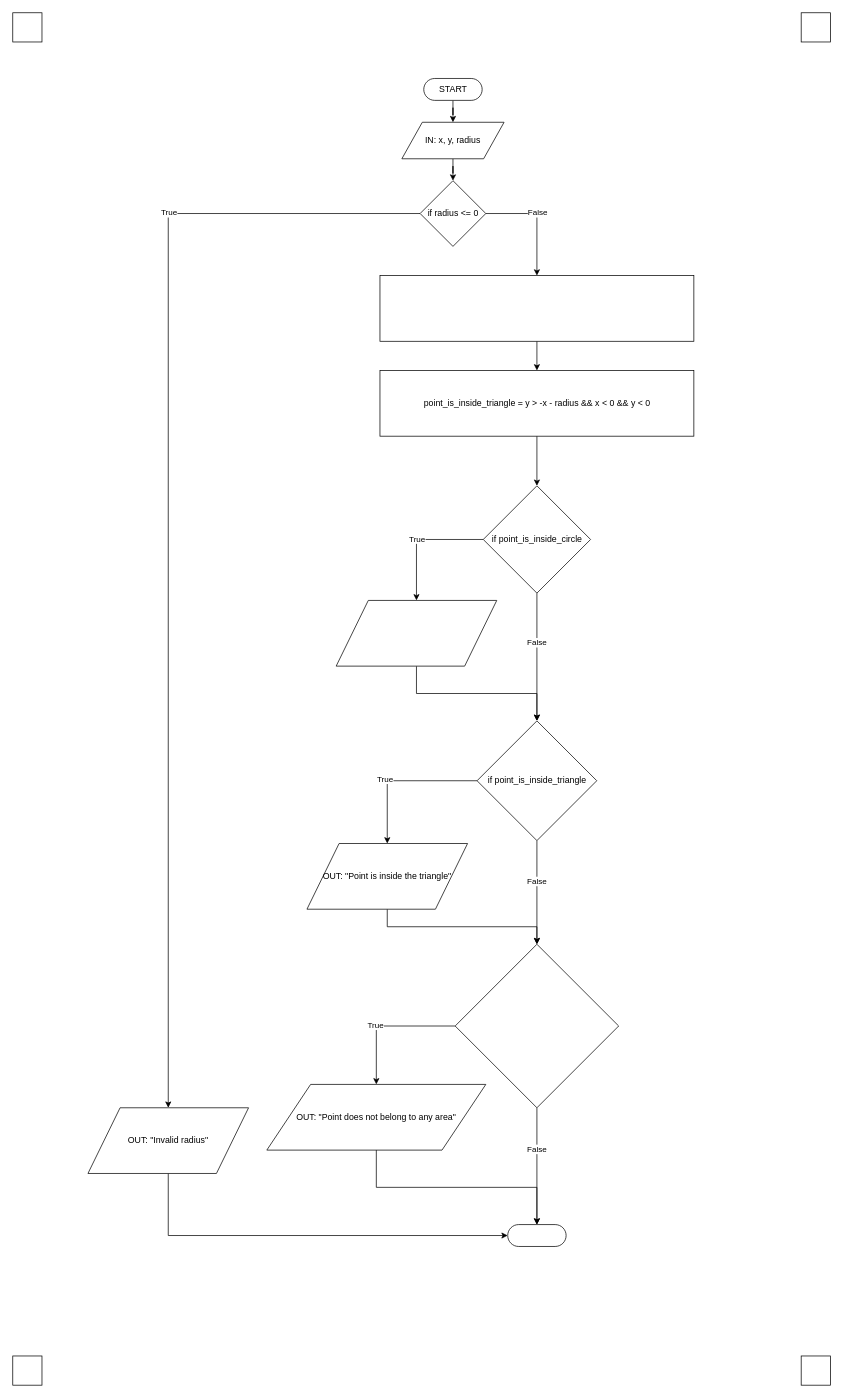
The diagram is 843 pixels wide and 1398 high, and some of its shapes have lost their labels. Each missing label, with the centre of its shape:
END: point (536, 1235)
if not point_is_inside_triangle and not point_is_inside_circle: point (536, 1026)
OUT: "Point is inside the circle": point (416, 633)
point_is_inside_circle = x^2 + y^2 < radius^2 && x > 0 && y > 0: point (536, 308)
